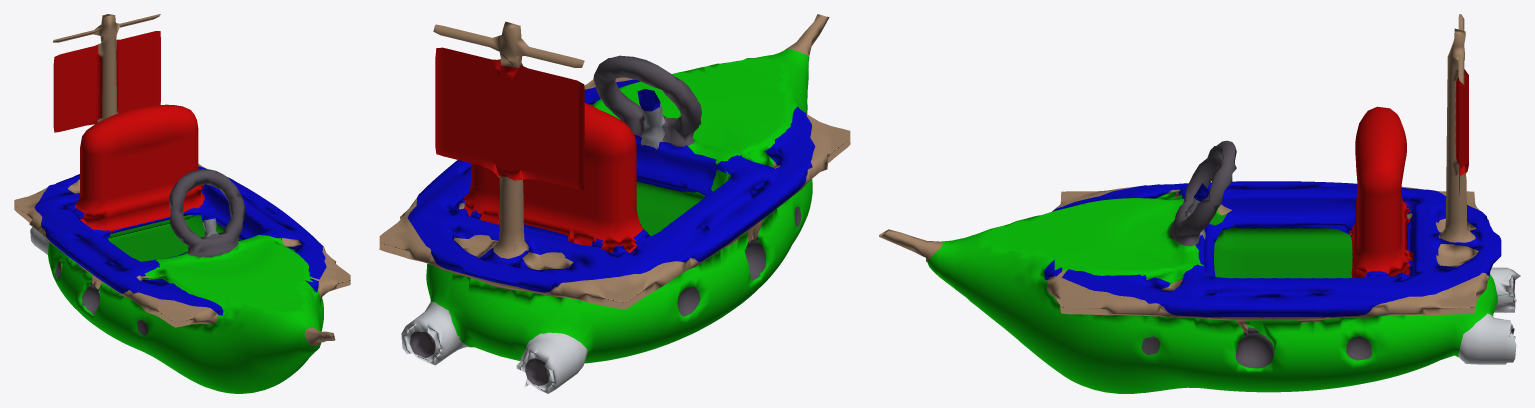
The model's file is body_ship.glb.
3 views of the same model, side by side, from view 1: azimuth 30°, elevation 25°; view 2: azimuth 150°, elevation 25°; view 3: azimuth 270°, elevation 25° (orthographic). The views are drawn at different scales.
Parts seen in each view (by area): view 1: body_ship; view 2: body_ship; view 3: body_ship.
Boxes of the visible parts, <box> form: body_ship: <box>14,14,350,393</box>; body_ship: <box>379,14,850,393</box>; body_ship: <box>879,14,1520,393</box>.
Bounding box in the file's own units: 21.92 × 28.81 × 47.63.
